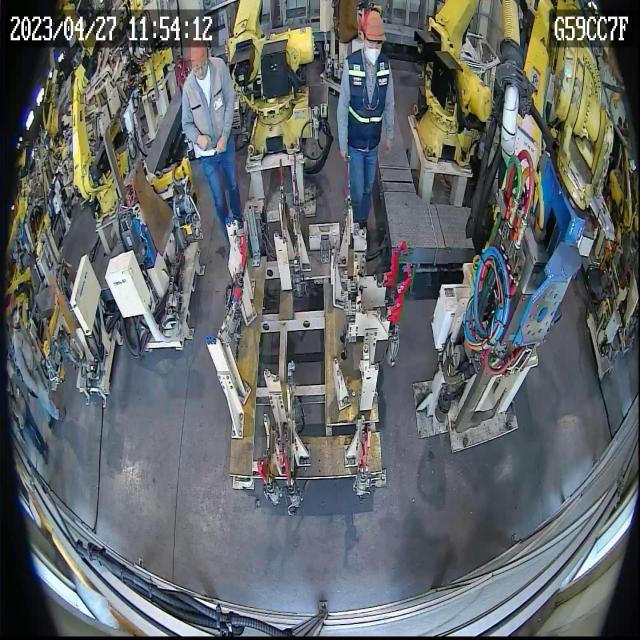Person: (336, 9, 395, 232), (181, 40, 243, 246), (8, 301, 68, 426), (9, 375, 52, 471)
